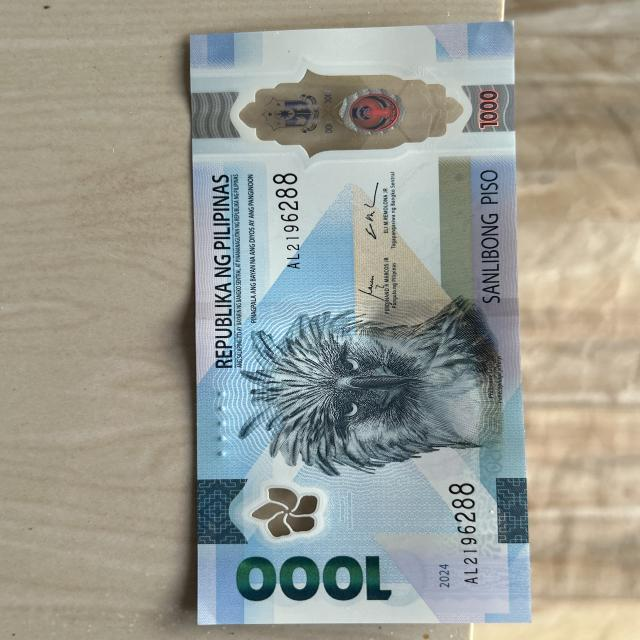clear_window: (219, 70, 509, 164)
eagle: (240, 315, 526, 471)
sampaguita: (244, 487, 324, 541)
